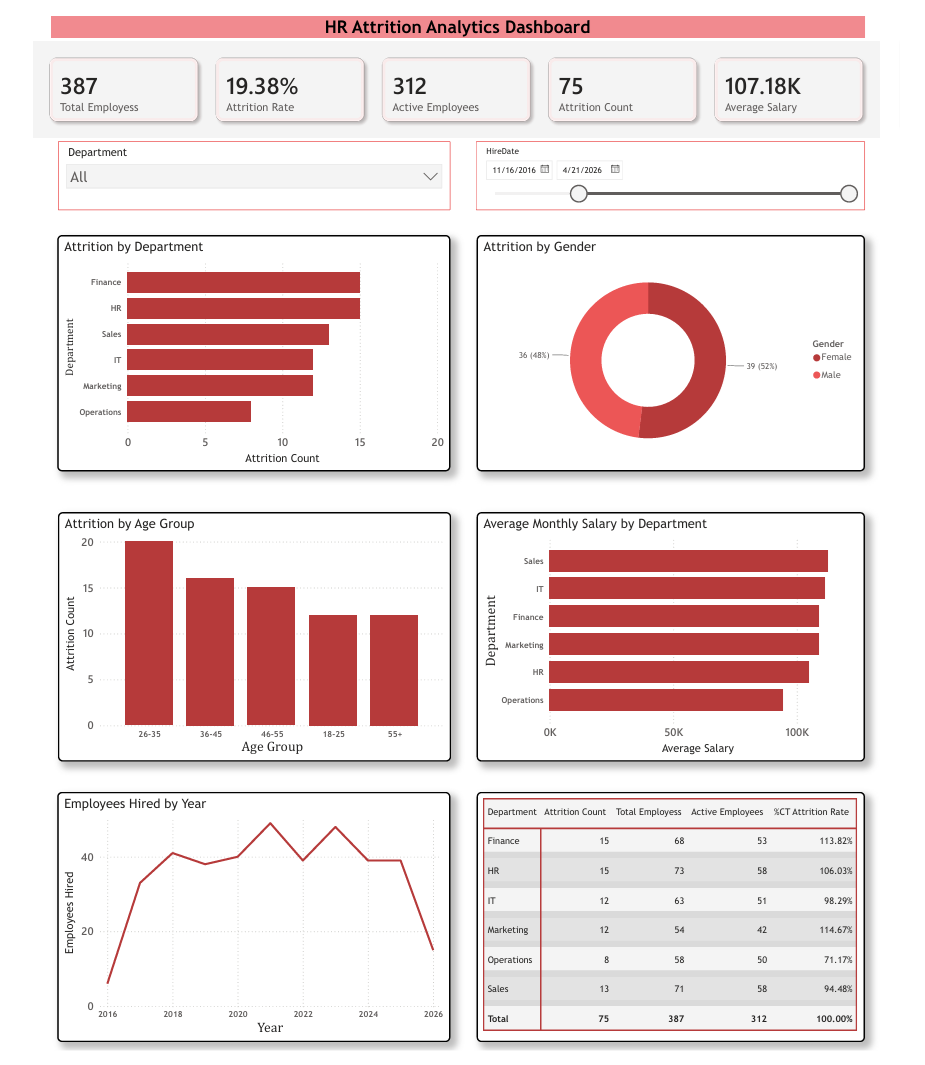

The dashboard page shown, as its layout file describes it:
{"tool":"powerbi","page":{"name":"Data Attrition Dashboard","canvas":[1280,1500],"ordinal":0},"visuals":[{"type":"cardVisual","fields":{"Data":["HR_Analytics.Total Employess","HR_Analytics.Attrition Rate","HR_Analytics.Active Employees","HR_Analytics.Attrition Count","HR_Analytics.Average Salary"]},"box":[19.4,31.1,1240.3,150.6],"z":0},{"type":"clusteredBarChart","title":"Attrition by Department","fields":{"Category":["HR_Analytics.Department"],"Y":["HR_Analytics.Attrition Count"]},"box":[59.4,316.7,570,343.3],"z":1000},{"type":"donutChart","title":"Attrition by Gender","fields":{"Y":["HR_Analytics.Attrition Count"],"Category":["HR_Analytics.Gender"]},"box":[666.6,316.7,563.5,343.3],"z":2000},{"type":"clusteredColumnChart","title":"Attrition by Age Group","fields":{"Y":["HR_Analytics.Attrition Count"],"Category":["HR_Analytics.Age Group"]},"box":[60,718.5,570,362],"z":3000},{"type":"clusteredBarChart","title":"Average Monthly Salary by Department","fields":{"Y":["HR_Analytics.Average Salary"],"Category":["HR_Analytics.Department"]},"box":[667,718.5,563,362],"z":4000},{"type":"lineChart","fields":{"Y":["HR_Analytics.Employees Hired"],"Category":["HR_Analytics.HireDate.Variation.Date Hierarchy.Year"]},"box":[58.8,1125,570,362.6],"z":5000},{"type":"slicer","fields":{"Values":["HR_Analytics.Department"]},"box":[60.4,181.3,568.4,99.6],"z":6000},{"type":"slicer","fields":{"Values":["HR_Analytics.HireDate"]},"box":[666.4,181.3,563.5,99.6],"z":7000},{"type":"pivotTable","fields":{"Rows":["HR_Analytics.Department"],"Values":["HR_Analytics.Attrition Count","HR_Analytics.Total Employess","HR_Analytics.Active Employees","HR_Analytics.Attrition Rate"]},"box":[667,1125,563,363],"z":8000},{"type":"textbox","title":"HR Attrition Analytics Dashboard ","box":[50.1,0,1179.4,31.3],"z":8001}]}

Visuals, with their boxes in screenshot pixels (x1, y1, x2, y2), scaled from the page's 1280x1500 canvas onto the 925x1065 screenshot:
cardVisual - HR_Analytics.Total Employess x HR_Analytics.Attrition Rate: x1=14 y1=22 x2=910 y2=129
"Attrition by Department" clusteredBarChart: x1=43 y1=225 x2=455 y2=469
"Attrition by Gender" donutChart: x1=482 y1=225 x2=889 y2=469
"Attrition by Age Group" clusteredColumnChart: x1=43 y1=510 x2=455 y2=767
"Average Monthly Salary by Department" clusteredBarChart: x1=482 y1=510 x2=889 y2=767
lineChart - HR_Analytics.Employees Hired x HR_Analytics.HireDate.Variation.Date Hierarchy.Year: x1=42 y1=799 x2=454 y2=1056
slicer - HR_Analytics.Department: x1=44 y1=129 x2=454 y2=199
slicer - HR_Analytics.HireDate: x1=482 y1=129 x2=889 y2=199
pivotTable - HR_Analytics.Department x HR_Analytics.Attrition Count: x1=482 y1=799 x2=889 y2=1056
"HR Attrition Analytics Dashboard " textbox: x1=36 y1=0 x2=889 y2=22
